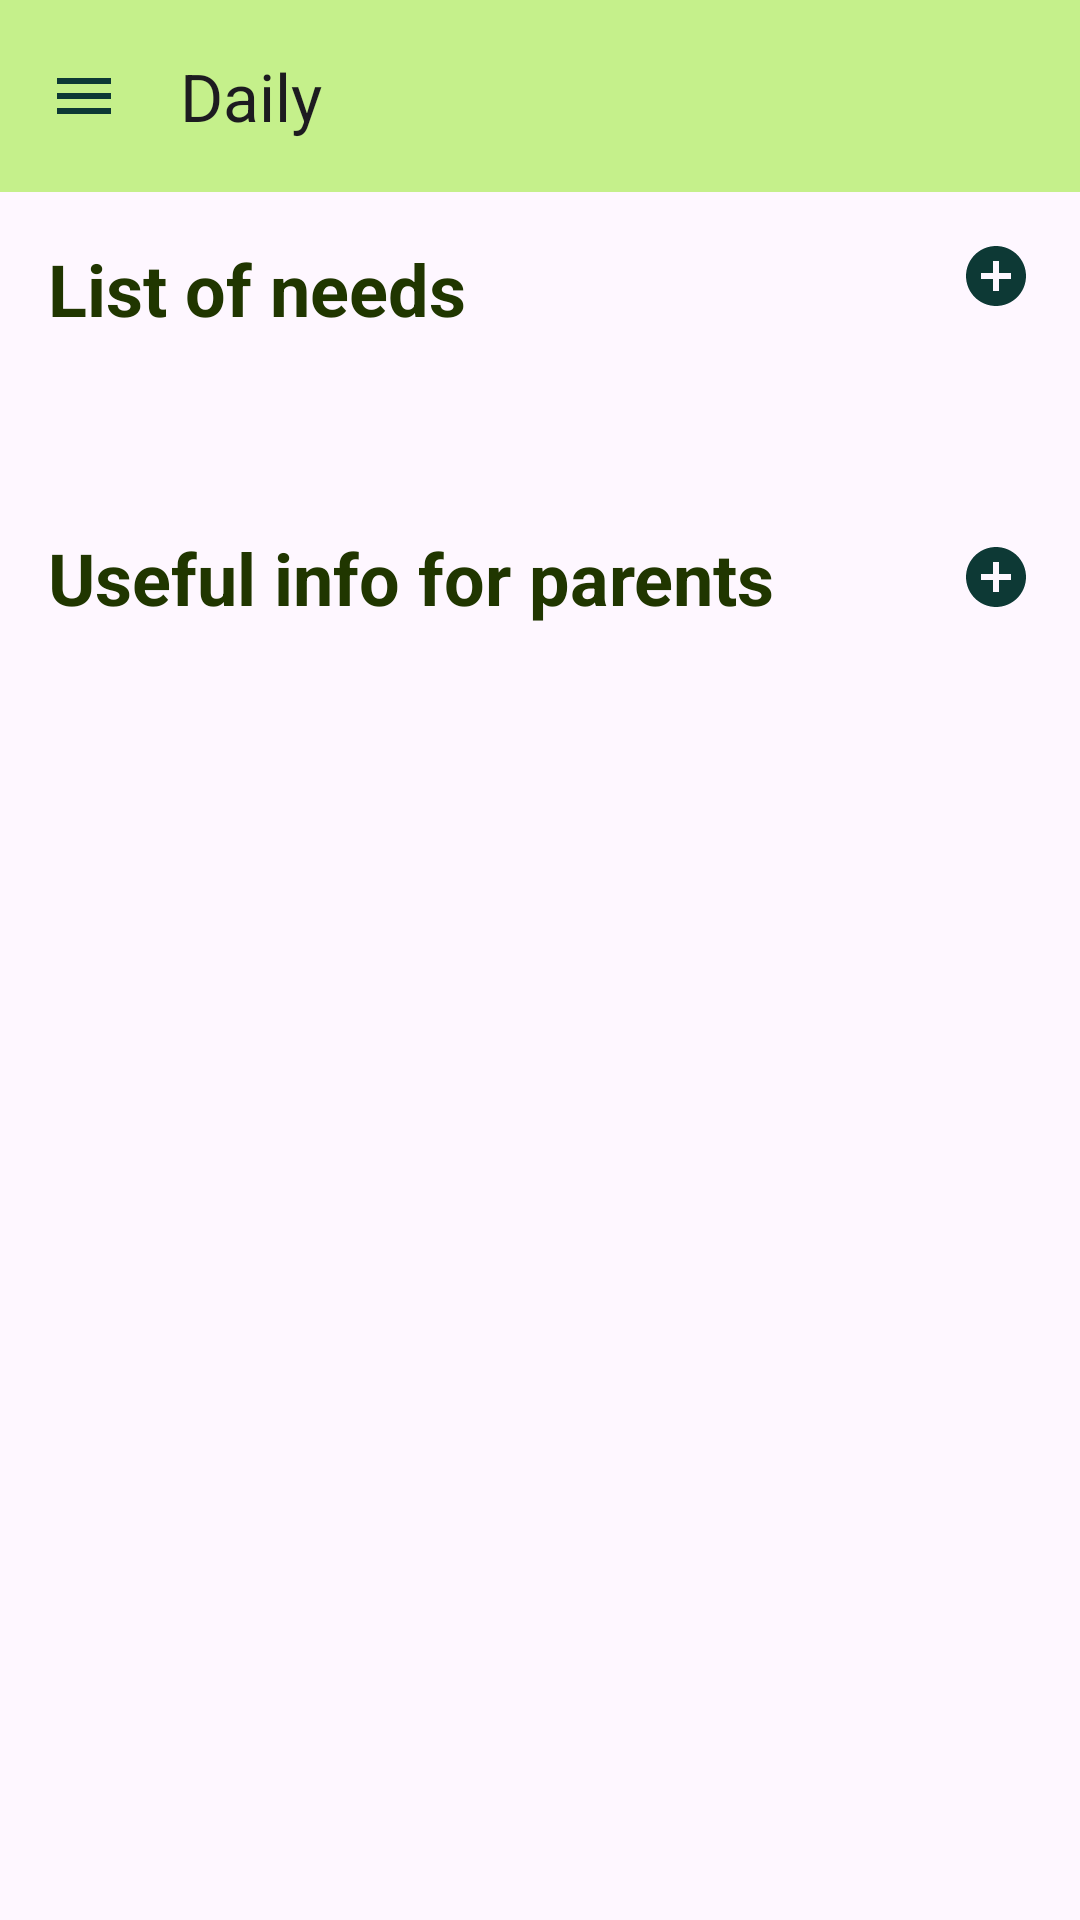

Where icons sit on this 1080*1920 app screen, as (x1, y1, x2, y2):
add: (966, 246, 1026, 306), (966, 547, 1026, 607)
